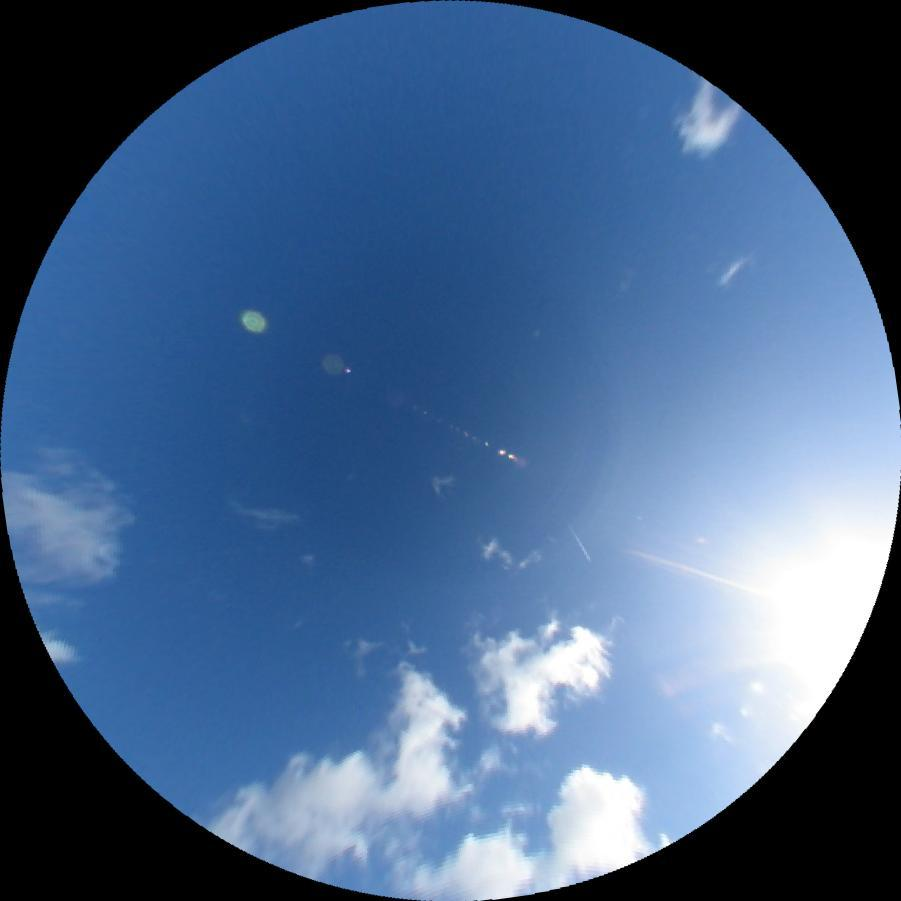contrail young: (562, 521, 593, 564)
parasite: (623, 541, 774, 602)
sun: (748, 511, 895, 686)
